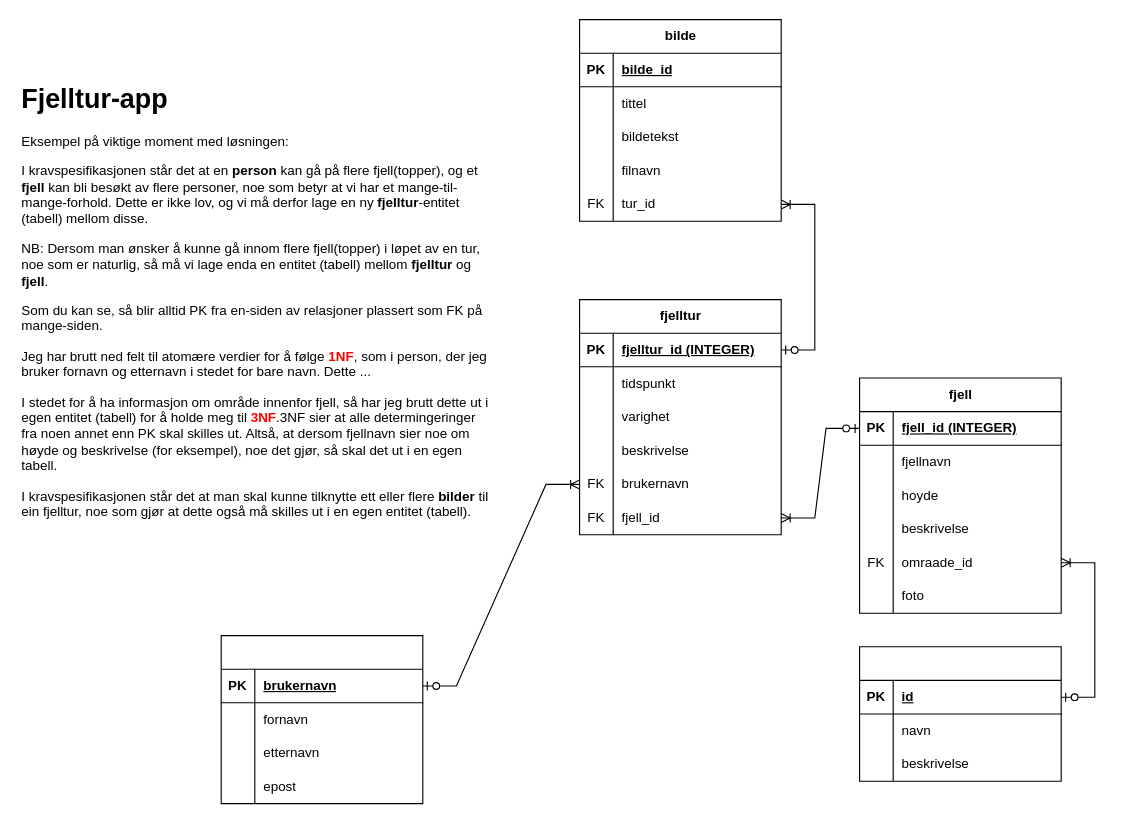
Some shapes in this 1124 by 823 pixel diagram are drawn without their labels. Here are the shapes that lost their labels. From the top down, the box of each, then its label:
(220, 634, 423, 804): person
(858, 646, 1061, 781): omraade
